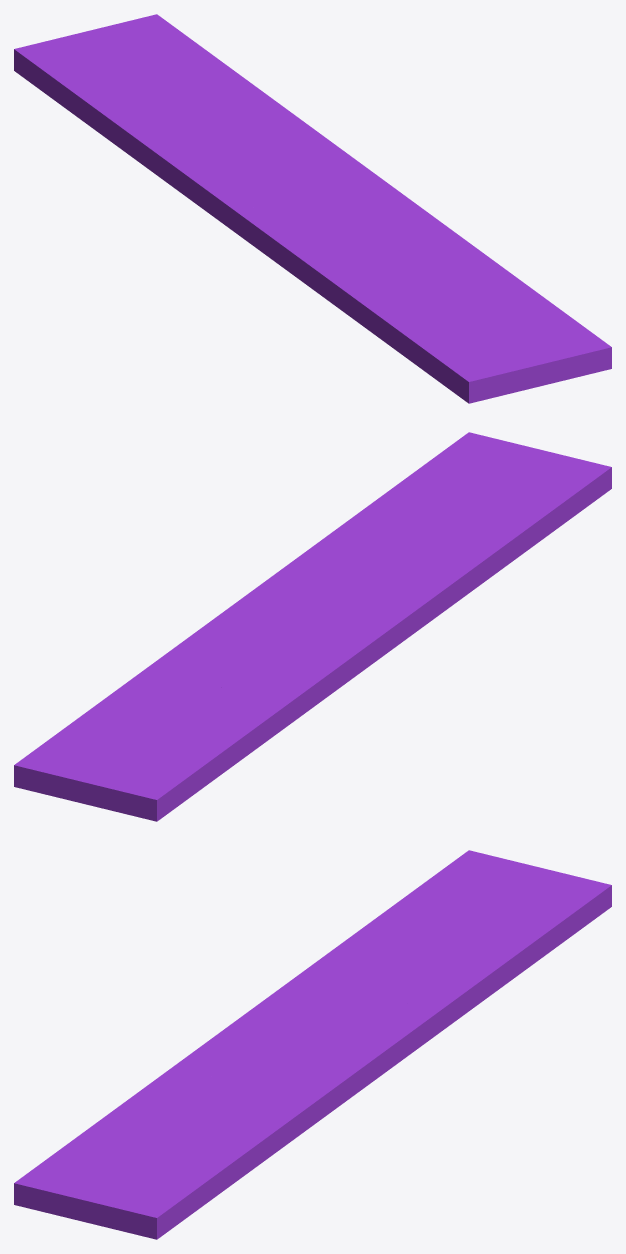
Rendered from StairsStep_56_chunks.fbx.
3 views of the same model, one above another, from view 1: azimuth 30°, elevation 25°; view 2: azimuth 150°, elevation 25°; view 3: azimuth 330°, elevation 25° (orthographic).
Parts seen in each view (by area): view 1: StairsStep_56_9, StairsStep_56_4, StairsStep_56_11, StairsStep_56_2, StairsStep_56_5, StairsStep_56_7, StairsStep_56_12, StairsStep_56_0, StairsStep_56_8, StairsStep_56_1; view 2: StairsStep_56_9, StairsStep_56_4, StairsStep_56_11, StairsStep_56_2, StairsStep_56_5, StairsStep_56_7, StairsStep_56_12, StairsStep_56_0, StairsStep_56_8, StairsStep_56_1; view 3: StairsStep_56_4, StairsStep_56_9, StairsStep_56_2, StairsStep_56_11, StairsStep_56_12, StairsStep_56_5, StairsStep_56_7, StairsStep_56_0, StairsStep_56_8, StairsStep_56_10, StairsStep_56_1.
Boxes of the visible parts, box(x1,y1,x2,y2) form: StairsStep_56_9: box(14, 14, 222, 147); StairsStep_56_4: box(418, 261, 611, 403); StairsStep_56_11: box(142, 129, 383, 197); StairsStep_56_2: box(326, 180, 494, 276); StairsStep_56_5: box(238, 195, 351, 303); StairsStep_56_7: box(331, 275, 477, 390); StairsStep_56_12: box(212, 63, 358, 162); StairsStep_56_0: box(120, 147, 287, 250); StairsStep_56_8: box(346, 223, 394, 280); StairsStep_56_1: box(378, 260, 425, 307); StairsStep_56_9: box(14, 688, 285, 821); StairsStep_56_4: box(352, 432, 611, 535); StairsStep_56_11: box(216, 598, 318, 709); StairsStep_56_2: box(242, 518, 416, 611); StairsStep_56_5: box(306, 563, 475, 641); StairsStep_56_7: box(442, 465, 611, 587); StairsStep_56_12: box(81, 617, 221, 716); StairsStep_56_0: box(263, 627, 402, 743); StairsStep_56_8: box(347, 545, 451, 591); StairsStep_56_1: box(408, 522, 485, 560); StairsStep_56_4: box(14, 1114, 273, 1239); StairsStep_56_9: box(341, 850, 611, 963); StairsStep_56_2: box(209, 1038, 390, 1156); StairsStep_56_11: box(306, 944, 410, 1068); StairsStep_56_12: box(404, 933, 545, 1035); StairsStep_56_5: box(152, 1014, 319, 1086); StairsStep_56_7: box(14, 1082, 183, 1191); StairsStep_56_0: box(245, 949, 334, 1023); StairsStep_56_8: box(174, 1058, 279, 1105); StairsStep_56_10: box(392, 997, 487, 1067); StairsStep_56_1: box(140, 1089, 217, 1127).
Bounding box in the file's own units: 200 × 28.98 × 1102.
